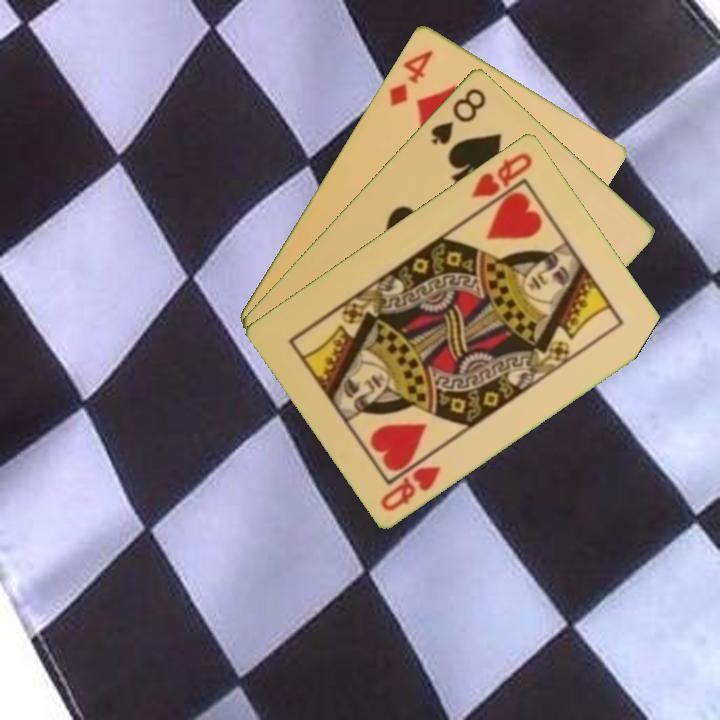4d: (385, 46, 436, 109)
8s: (427, 84, 489, 147)
Qh: (467, 148, 536, 201), (377, 461, 444, 514)
